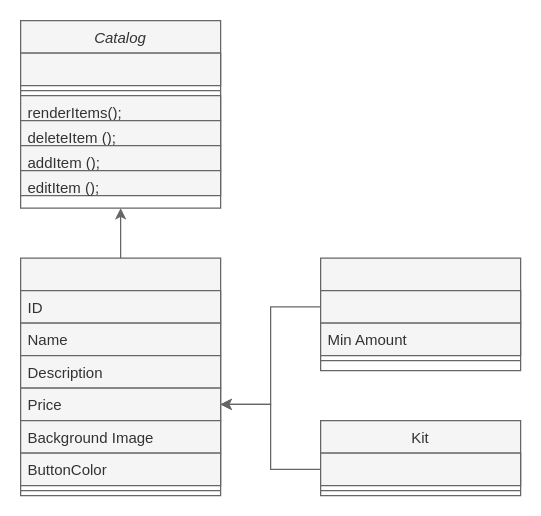
The diagram is 541 pixels wide and 516 high, and some of its shapes have lost their labels. Each missing label, with the box of its shape:
ImagesURL [ ]: (319, 452, 521, 486)
ImageURL: (319, 289, 521, 323)
Individual Item: (319, 257, 521, 371)
Item: (19, 257, 221, 496)
Items [ ]: (19, 52, 221, 86)
